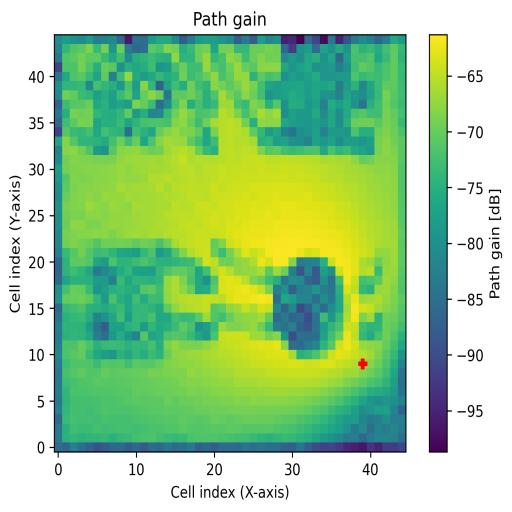Concrete: (280, 42, 375, 154)
Glass: (93, 43, 219, 155)
Metal: (265, 257, 350, 360)
Wood: (86, 248, 172, 359)
